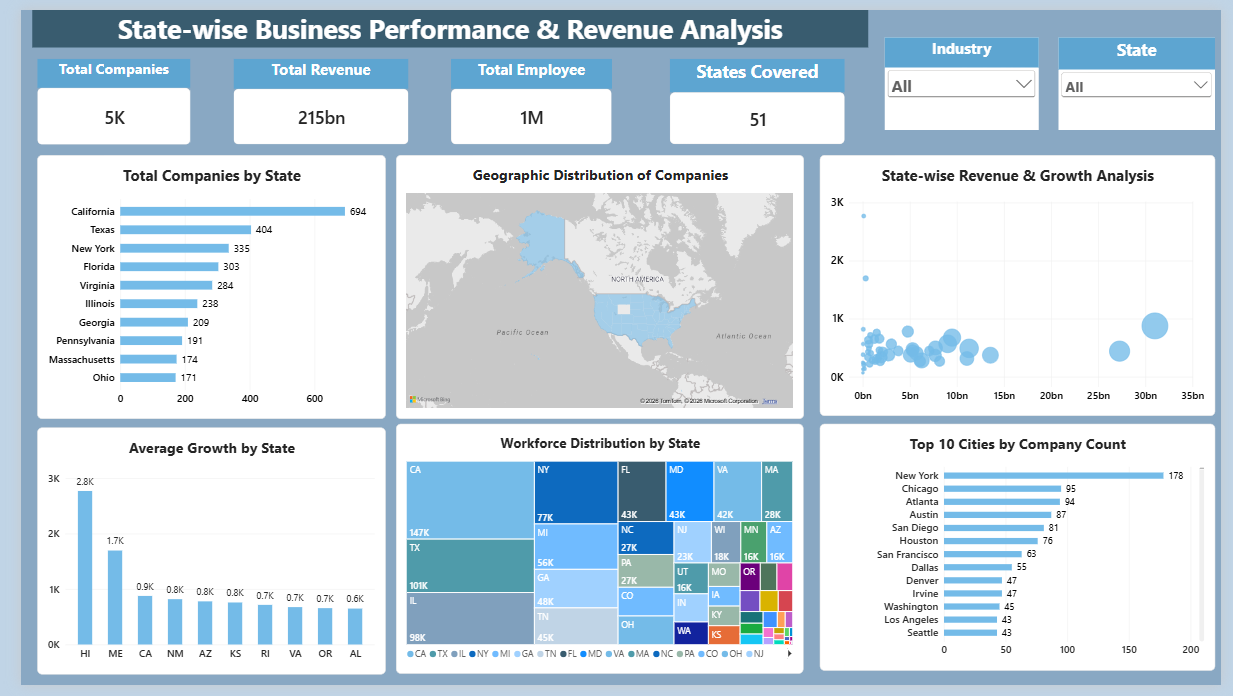

The dashboard page shown, as its layout file describes it:
{"tool":"powerbi","page":{"name":"Company Performance","canvas":[1920,1080],"ordinal":2},"visuals":[{"type":"textbox","title":"State-wise Business Performance & Revenue Analysis","box":[17.5,0,1337.5,60],"z":0},{"type":"cardVisual","title":"Total Companies","fields":{"Data":["INC5000_Cleaned_Dataset.Total Companies"]},"box":[25,77.5,245,137.5],"z":1},{"type":"cardVisual","title":"Total Revenue","fields":{"Data":["INC5000_Cleaned_Dataset.Total Revenue"]},"box":[340,77.5,280,137.5],"z":2},{"type":"cardVisual","title":"Total  Employee","fields":{"Data":["INC5000_Cleaned_Dataset.Total Workforce"]},"box":[687.5,77.5,257.5,137.5],"z":3},{"type":"clusteredBarChart","title":"Total Companies by State","fields":{"Category":["INC5000_Cleaned_Dataset.state_l"],"Y":["INC5000_Cleaned_Dataset.Total Companies"]},"box":[25,232.5,557.5,422.5],"z":4},{"type":"filledMap","title":"Geographic Distribution of Companies","fields":{"Category":["INC5000_Cleaned_Dataset.state_l"]},"box":[600,232.5,652.5,422.5],"z":5},{"type":"cardVisual","title":"States Covered","fields":{"Data":["INC5000_Cleaned_Dataset.Total States"]},"box":[1037.5,77.5,280,137.5],"z":6},{"type":"treemap","title":"Workforce Distribution by State","fields":{"Group":["INC5000_Cleaned_Dataset.state_s"],"Values":["INC5000_Cleaned_Dataset.Total Workforce"]},"box":[600,662,652,400],"z":7},{"type":"clusteredColumnChart","title":"Average Growth by State","fields":{"Category":["INC5000_Cleaned_Dataset.state_s"],"Y":["INC5000_Cleaned_Dataset.Average Growth"]},"box":[25,667.5,557.5,395],"z":8},{"type":"clusteredBarChart","title":"Top 10 Cities by Company Count","fields":{"Category":["INC5000_Cleaned_Dataset.city"],"Y":["INC5000_Cleaned_Dataset.Total Companies"]},"box":[1277.5,662.5,632.5,395],"z":9},{"type":"scatterChart","title":"State-wise Revenue & Growth Analysis","fields":{"Category":["INC5000_Cleaned_Dataset.state_s"],"Size":["INC5000_Cleaned_Dataset.Total Companies"],"X":["INC5000_Cleaned_Dataset.Total Revenue"],"Y":["INC5000_Cleaned_Dataset.Average Growth"]},"box":[1277.5,232.5,632.5,417.5],"z":10},{"type":"slicer","title":"Industry","fields":{"Values":["INC5000_Cleaned_Dataset.industry - sort"]},"box":[1382,44,246,148],"z":11},{"type":"slicer","title":"State","fields":{"Values":["INC5000_Cleaned_Dataset.state_l"]},"box":[1660,44,250,148],"z":12}]}

Visuals, with their boxes in screenshot pixels (x1, y1, x2, y2), scaled from the page's 1920x1080 canvas onto the 1233x696 screenshot:
"State-wise Business Performance & Revenue Analysis" textbox: (11,0,870,39)
"Total Companies" cardVisual: (16,50,173,139)
"Total Revenue" cardVisual: (218,50,398,139)
"Total  Employee" cardVisual: (442,50,607,139)
"Total Companies by State" clusteredBarChart: (16,150,374,422)
"Geographic Distribution of Companies" filledMap: (385,150,804,422)
"States Covered" cardVisual: (666,50,846,139)
"Workforce Distribution by State" treemap: (385,427,804,684)
"Average Growth by State" clusteredColumnChart: (16,430,374,685)
"Top 10 Cities by Company Count" clusteredBarChart: (820,427,1227,682)
"State-wise Revenue & Growth Analysis" scatterChart: (820,150,1227,419)
"Industry" slicer: (888,28,1045,124)
"State" slicer: (1066,28,1227,124)
